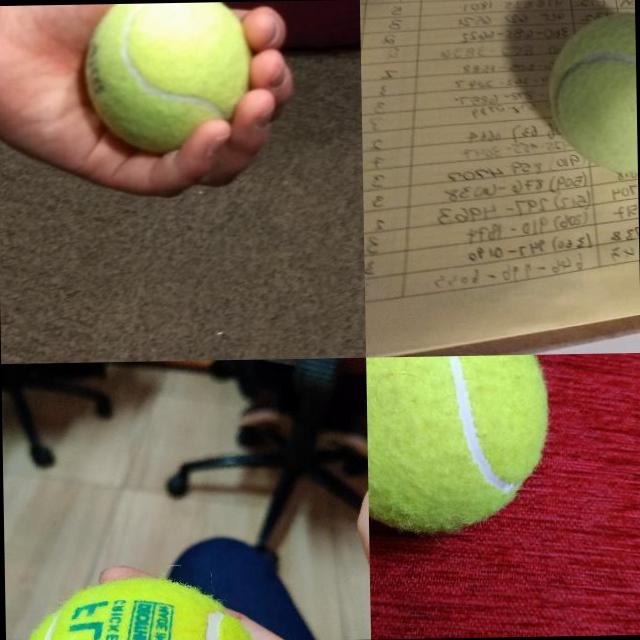Tennis Ball: (366, 354, 552, 535), (83, 1, 245, 120), (7, 575, 269, 640), (544, 9, 638, 177)
